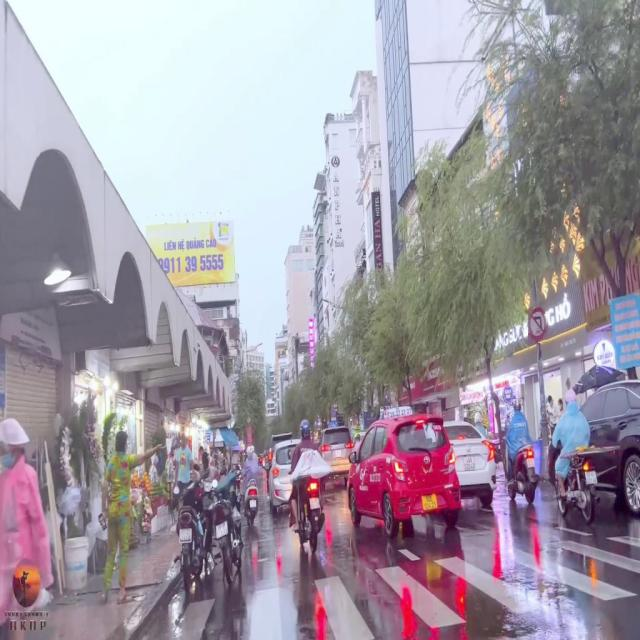cam_do_xe: (331, 407, 336, 418)
cam_o_to_re_trai: (528, 304, 548, 343)
huong_di_tren_moi_lan_duong_theo_vach_ke_duong: (330, 419, 338, 428)
